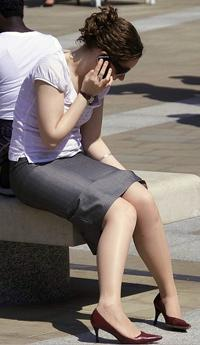person: (8, 8, 191, 345)
